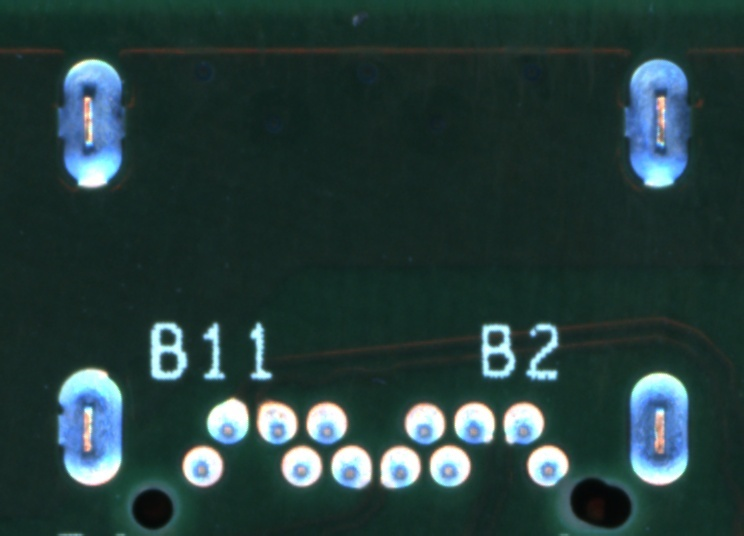SOLDER: (179, 442, 225, 492), (278, 441, 324, 491), (331, 443, 377, 493), (377, 443, 423, 493), (426, 442, 472, 492), (524, 441, 570, 491), (501, 397, 547, 447), (451, 397, 497, 447), (401, 397, 447, 447), (303, 397, 349, 447), (205, 396, 251, 446), (254, 397, 299, 447)
SOLDER2: (51, 51, 132, 195), (51, 354, 131, 497), (617, 354, 697, 497), (618, 50, 698, 193)
